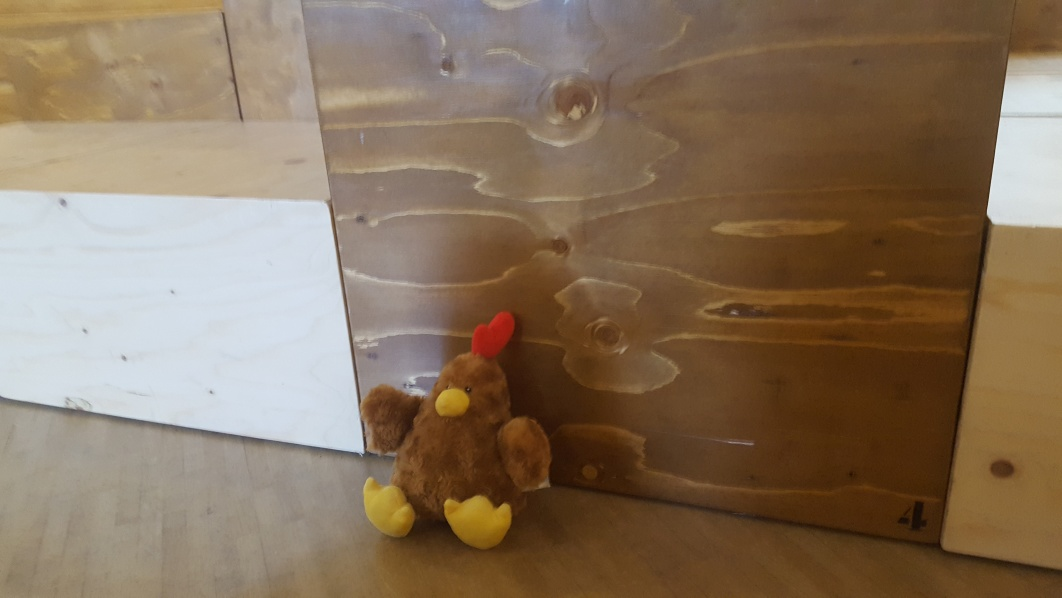chicken: (361, 313, 553, 549)
